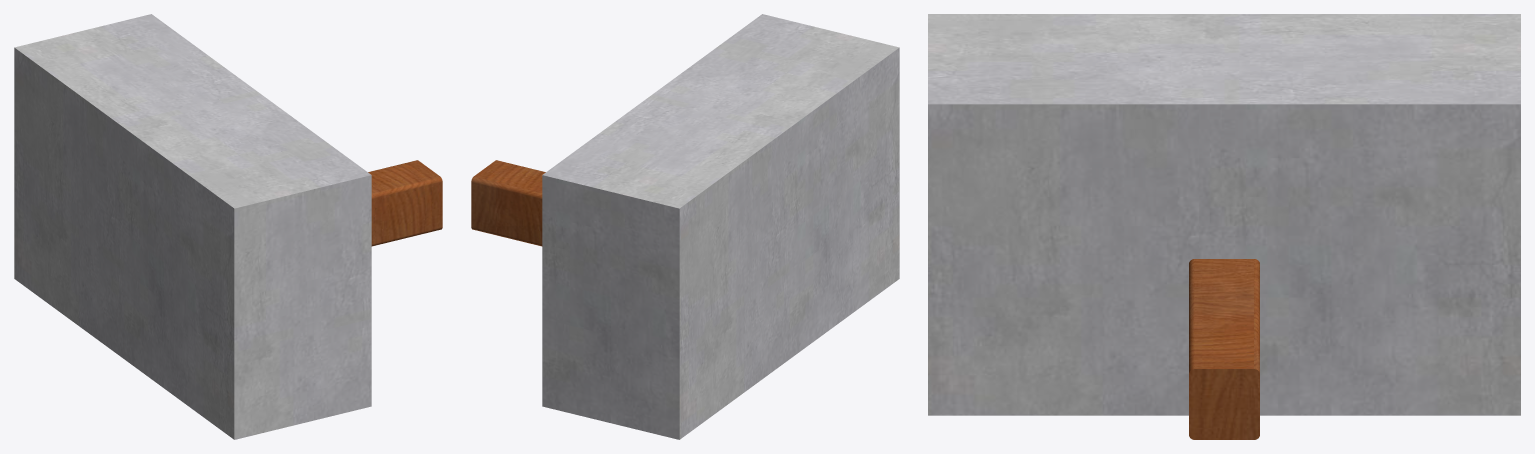
File: handrail-wall-end-plate.glb
3 renders of one model, left to right at view 1: azimuth 30°, elevation 25°; view 2: azimuth 150°, elevation 25°; view 3: azimuth 270°, elevation 25°, orthographic. The views are drawn at different scales.
Parts seen in each view (by area): view 1: 钢筋混凝土墙, 墙面抹面层, 木扶手端部; view 2: 钢筋混凝土墙, 墙面抹面层, 木扶手端部; view 3: 墙面抹面层, 钢筋混凝土墙, 木扶手端部.
Part boxes in pixels (bbox=[...]): 钢筋混凝土墙: bbox=[14, 17, 356, 439]; 墙面抹面层: bbox=[137, 14, 371, 409]; 木扶手端部: bbox=[368, 160, 442, 246]; 钢筋混凝土墙: bbox=[557, 17, 899, 439]; 墙面抹面层: bbox=[542, 14, 776, 409]; 木扶手端部: bbox=[471, 160, 545, 246]; 墙面抹面层: bbox=[928, 94, 1520, 415]; 钢筋混凝土墙: bbox=[928, 14, 1520, 93]; 木扶手端部: bbox=[1189, 259, 1259, 439].
Size of the model in its own units: 0.4 by 0.29 by 0.5.
Materials: 4 (3 with a texture image).
